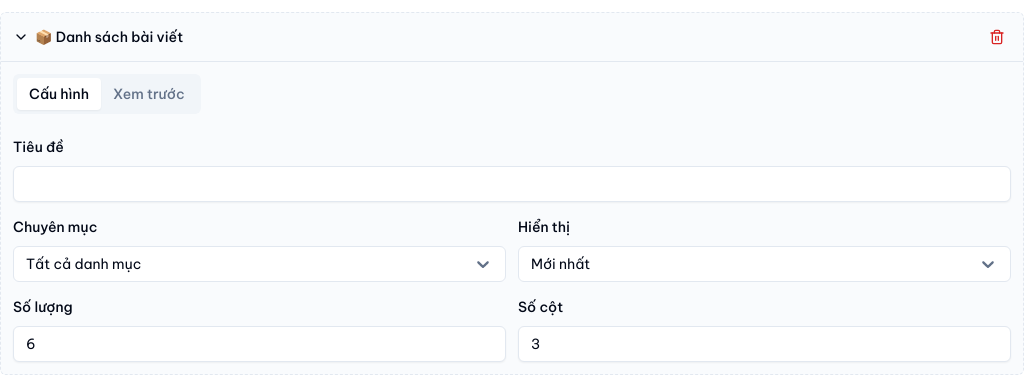
Test: WidgetNodeView › switches to the preview tab
Click the tab "Xem trước" at (149, 94), box x1=101 y1=78 x2=197 y2=110
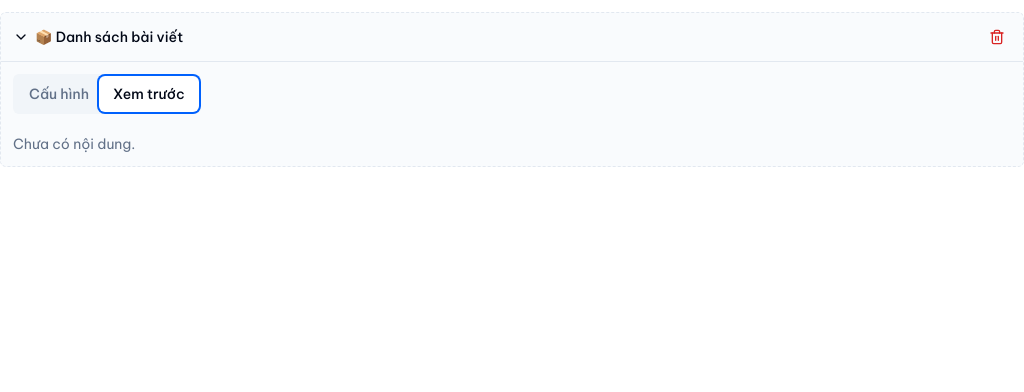
Expected: the text "Chưa có nội dung." is shown, x1=13 y1=135 x2=135 y2=153
